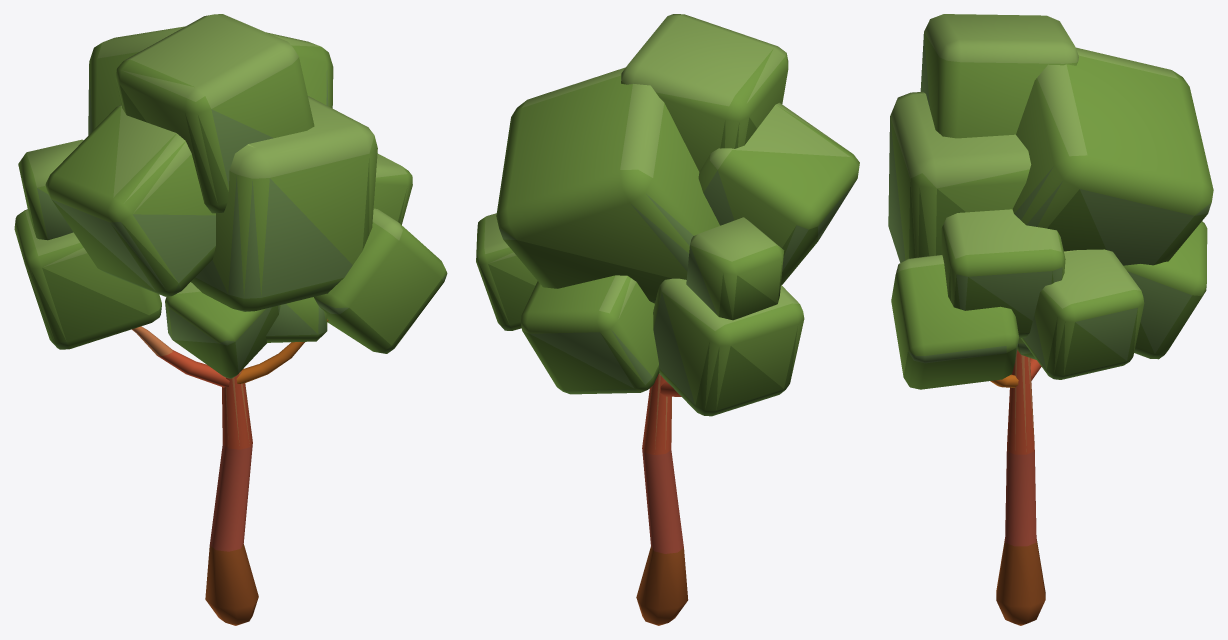
File: itch_kaykit_forest_tree_2_d_color1.glb
3 renders of one model, left to right at view 1: azimuth 30°, elevation 25°; view 2: azimuth 150°, elevation 25°; view 3: azimuth 270°, elevation 25°, orthographic. The views are drawn at different scales.
Visible parts, largest first — view 1: Tree_2_D_Color1; view 2: Tree_2_D_Color1; view 3: Tree_2_D_Color1.
Boxes of the visible parts, box(x1,y1,x2,y2) form: Tree_2_D_Color1: box(14, 14, 447, 625); Tree_2_D_Color1: box(476, 14, 859, 625); Tree_2_D_Color1: box(888, 14, 1213, 625).
Bounding box in the file's own units: 1.22 × 2.08 × 1.04.
